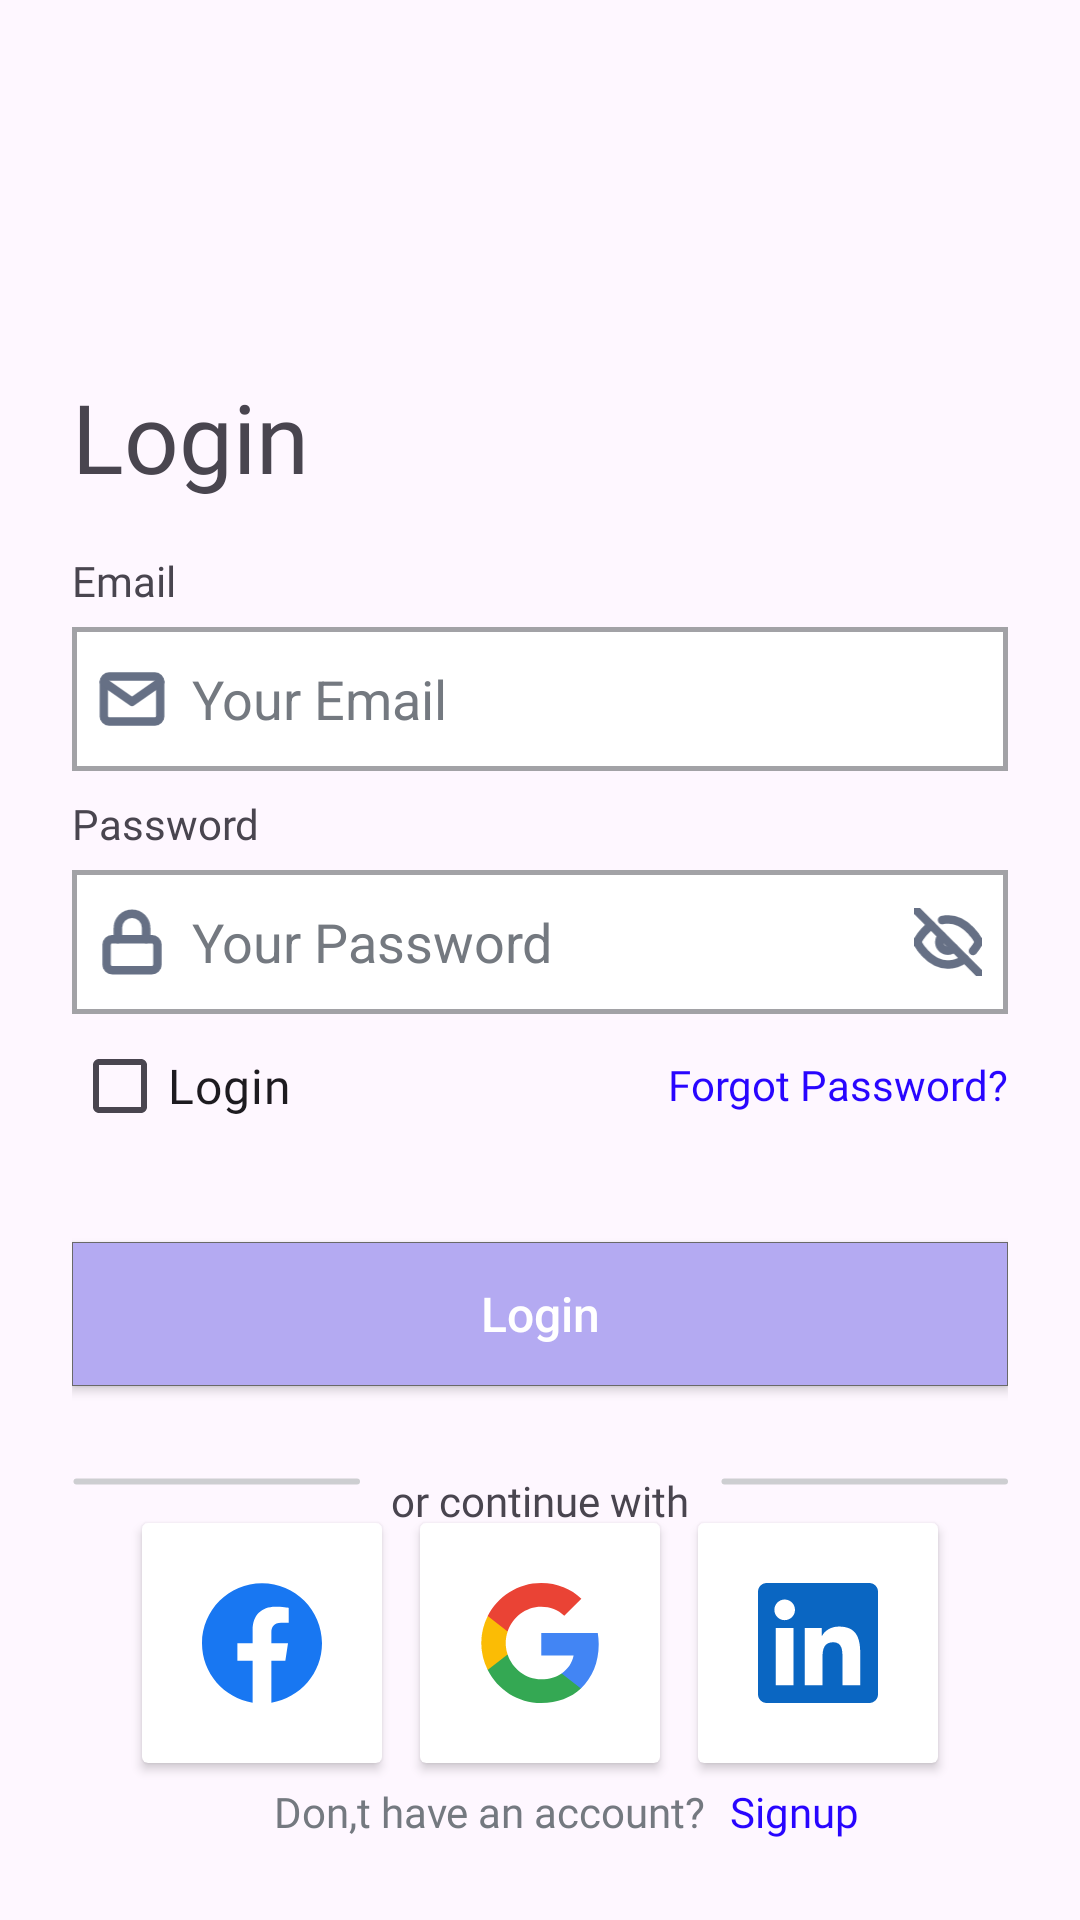

Named icons in this screenshot (1080px x 1920px) and their centers, point (x, y):
eye off: point (948, 942)
lock: point (132, 942)
